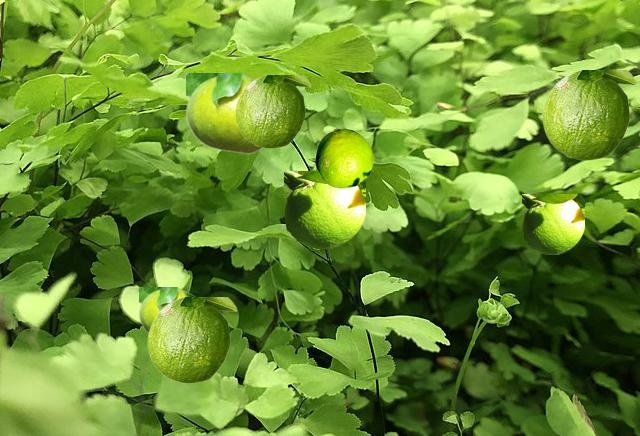dalandan: (542, 70, 636, 159), (147, 297, 236, 382), (186, 73, 263, 153), (284, 171, 364, 247), (235, 75, 310, 147), (522, 194, 583, 253), (315, 128, 372, 187), (139, 287, 196, 333)
